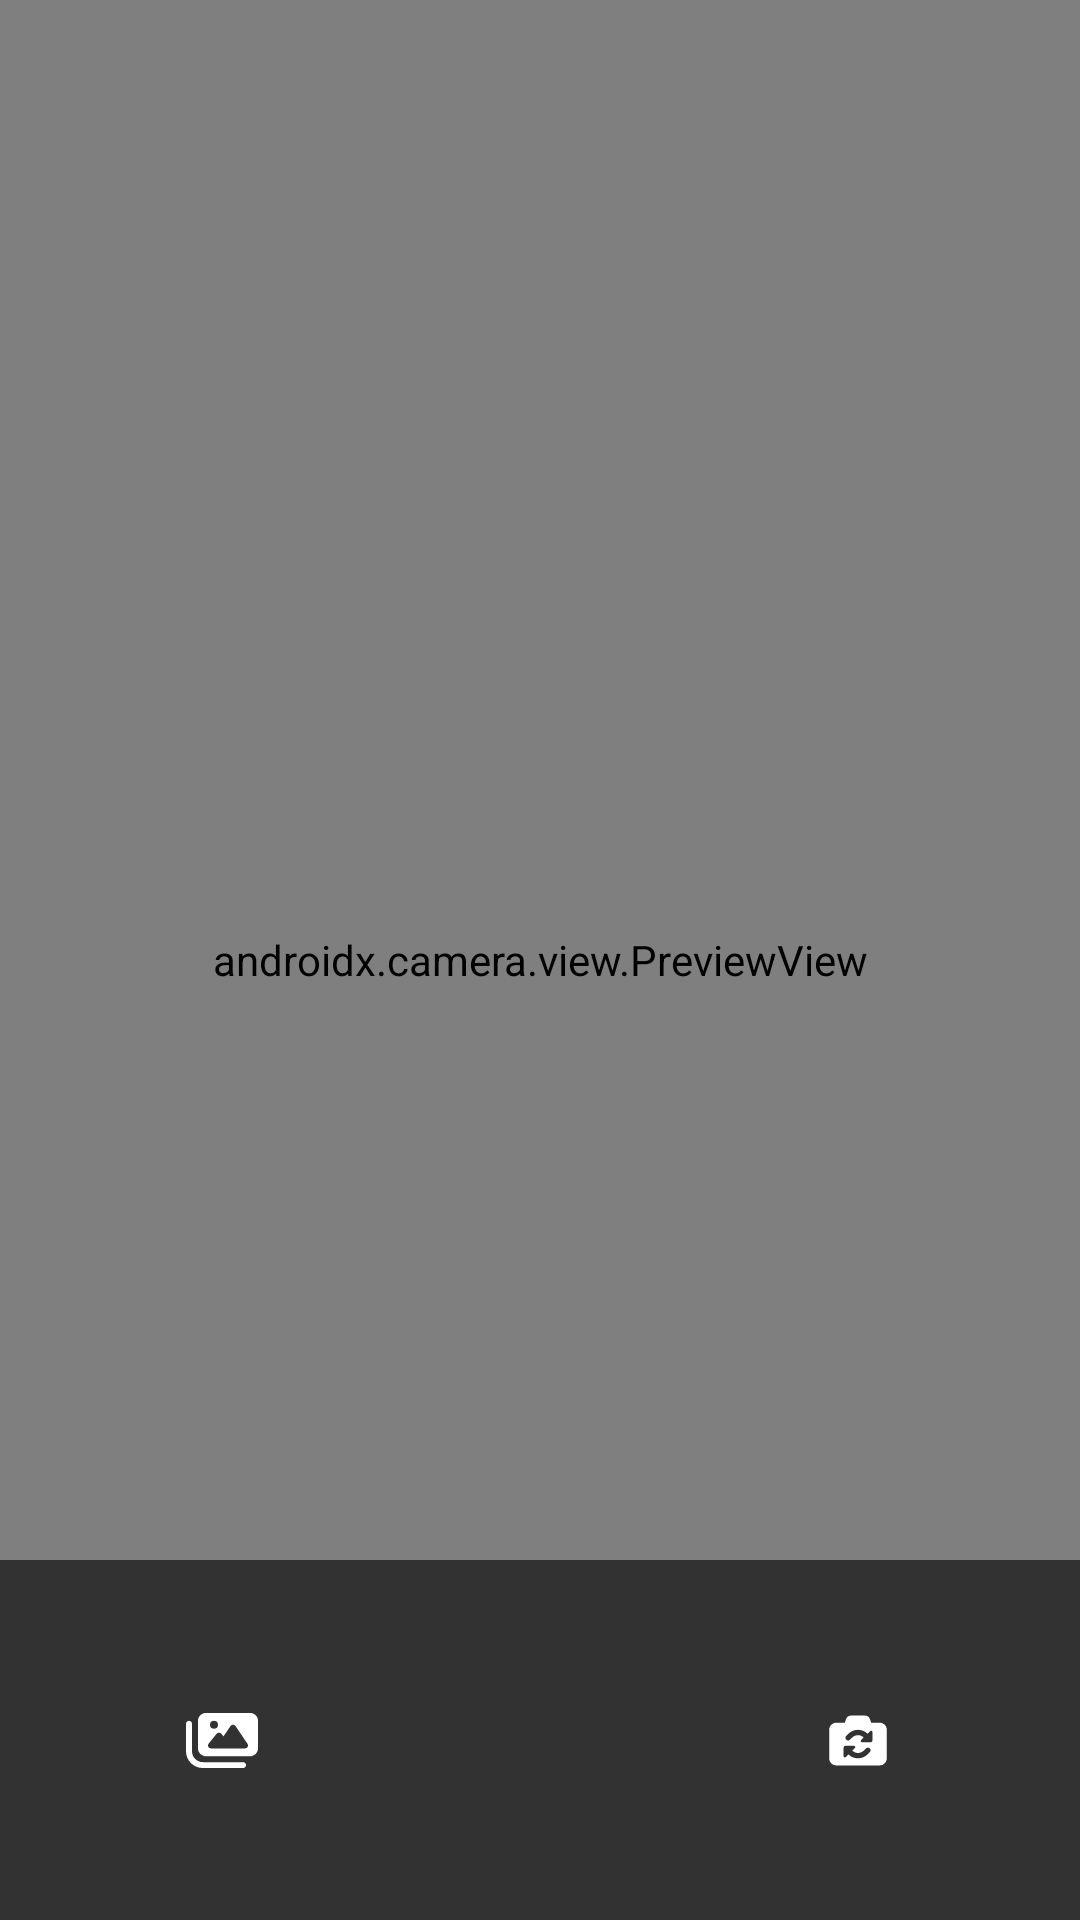

Screen size 1080px x 1920px. Icon name, then its center in pixels as (x,y):
camera rotate: (858,1740)
images: (222,1740)
